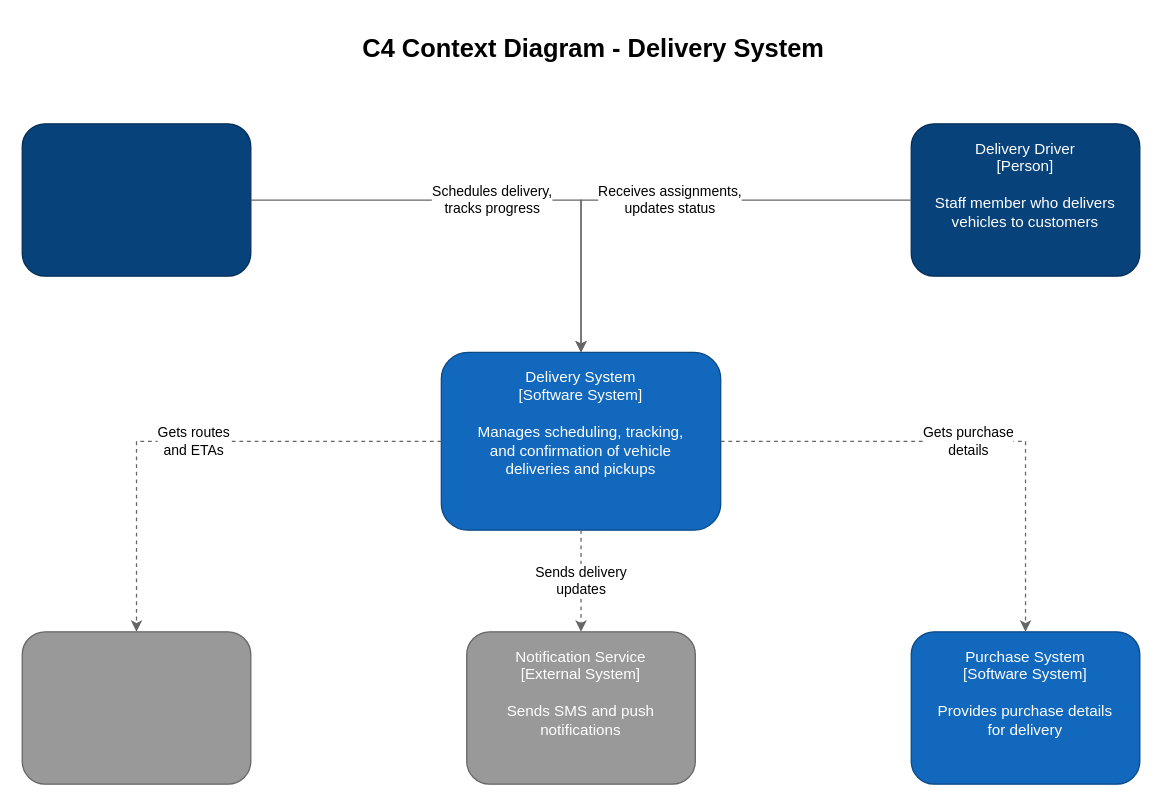
The diagram is 1162 pixels wide and 806 high, and some of its shapes have lost their labels. The shapes that lost their labels are listed below. From the top down, each one's centre as x and y in pixels, then its label:
At (136,199): "Car Buyer [Person] Customer receiving their purchased vehicle".
At (136,707): "Maps Service [External System] Provides routing and ETA calculations".
